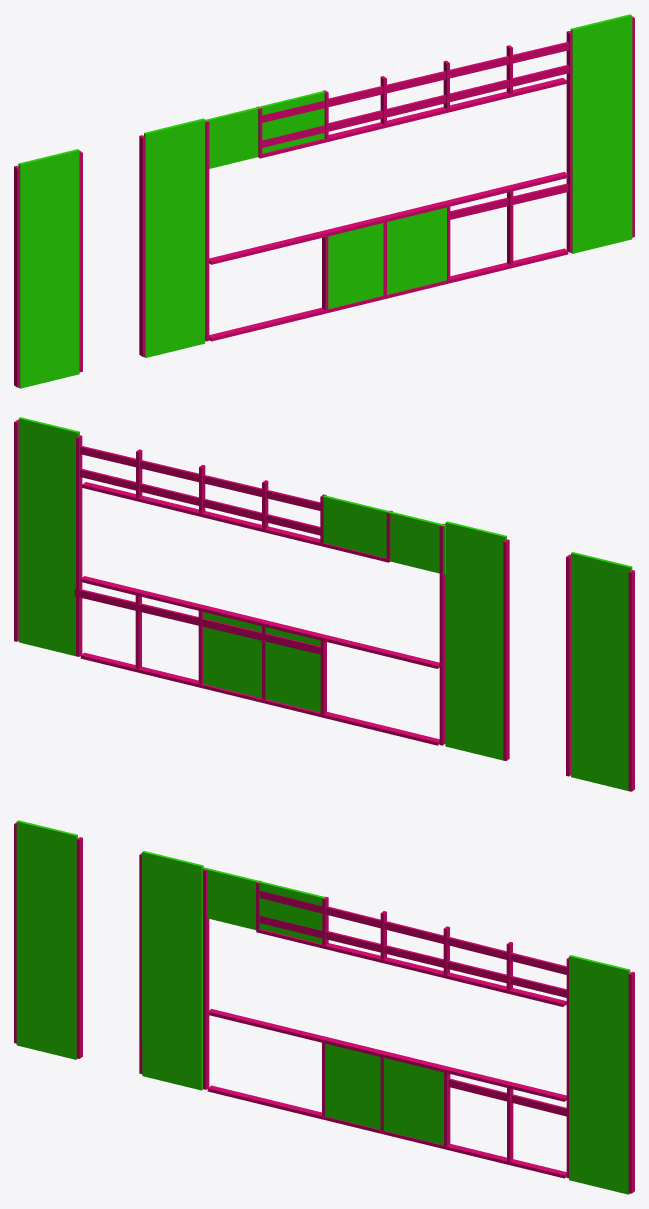
The model's file is BH03_Wall_07_Break_B.fbx.
3 views of the same model, one above another, from view 1: azimuth 30°, elevation 25°; view 2: azimuth 150°, elevation 25°; view 3: azimuth 330°, elevation 25° (orthographic).
Parts seen in each view (by area): view 1: BH03_Wall_07_Break_B; view 2: BH03_Wall_07_Break_B; view 3: BH03_Wall_07_Break_B.
Boxes of the visible parts, box(x1,y1,x2,y2) form: BH03_Wall_07_Break_B: box(14, 14, 634, 388); BH03_Wall_07_Break_B: box(14, 417, 634, 791); BH03_Wall_07_Break_B: box(14, 820, 634, 1194).
Bounding box in the file's own units: 866 × 300 × 9.45.
